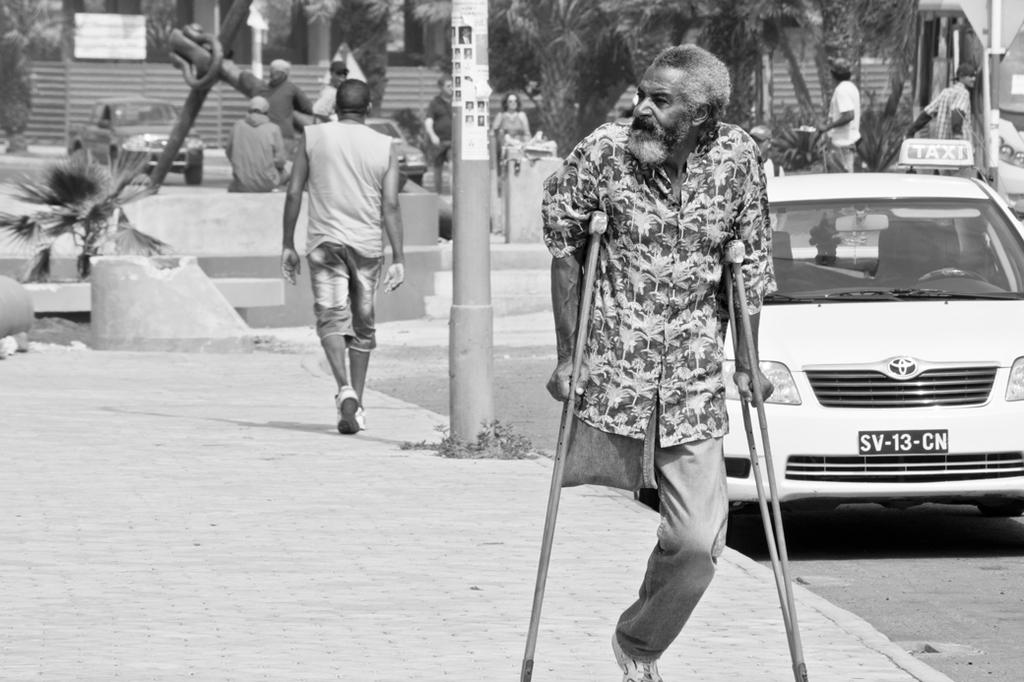crutches: (505, 32, 816, 682)
